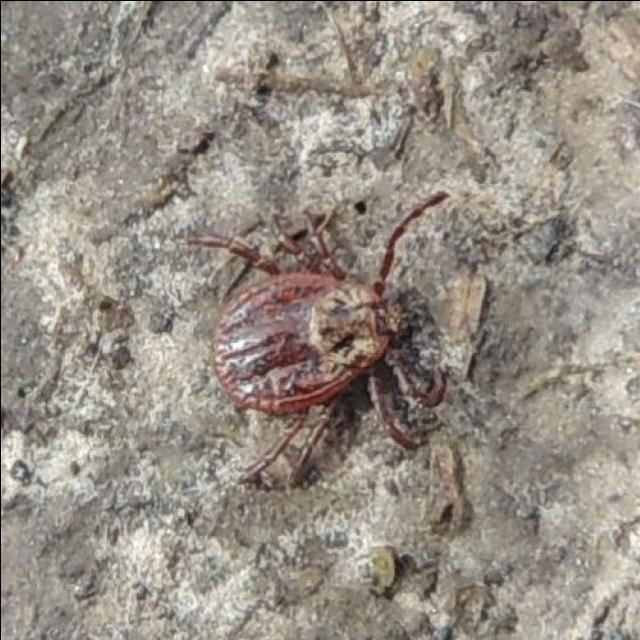Dermacentor Reticulatus-F: (187, 190, 446, 487)
